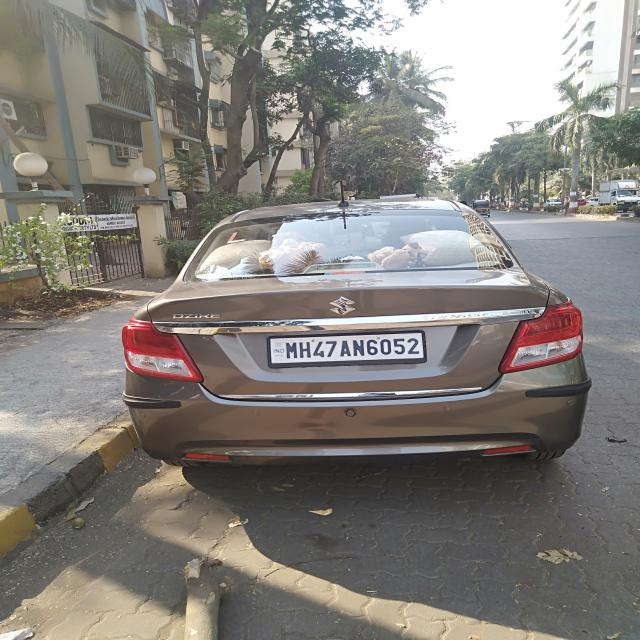Number-Plate: (271, 334, 424, 363)
